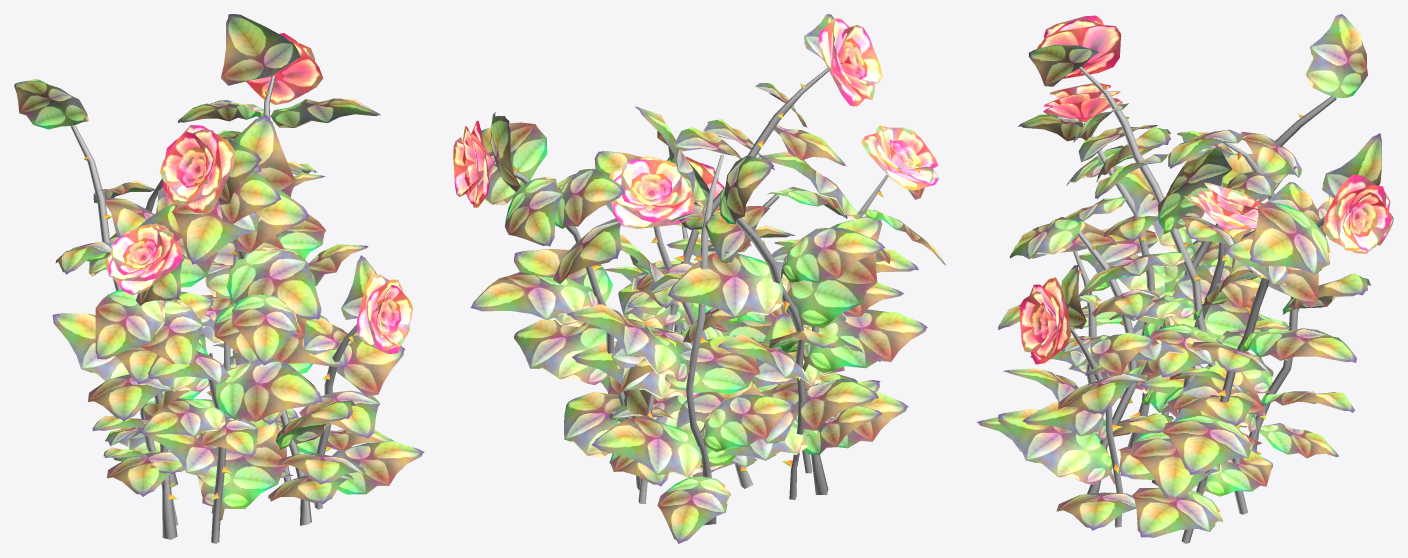
File: rose_bush_02_SM.fbx
3 views of the same model, side by side, from view 1: azimuth 30°, elevation 25°; view 2: azimuth 150°, elevation 25°; view 3: azimuth 270°, elevation 25° (orthographic). The views are drawn at different scales.
Parts seen in each view (by area): view 1: rose_bush_02_SM_LOD0; view 2: rose_bush_02_SM_LOD0; view 3: rose_bush_02_SM_LOD0.
Boxes of the visible parts, left/top/right/bottom form: rose_bush_02_SM_LOD0: left=14, top=14, right=424, bottom=543; rose_bush_02_SM_LOD0: left=453, top=14, right=945, bottom=543; rose_bush_02_SM_LOD0: left=977, top=14, right=1393, bottom=543.
Size of the model in its own units: 168 by 160 by 193.
Materials: 3 (2 with a texture image).
